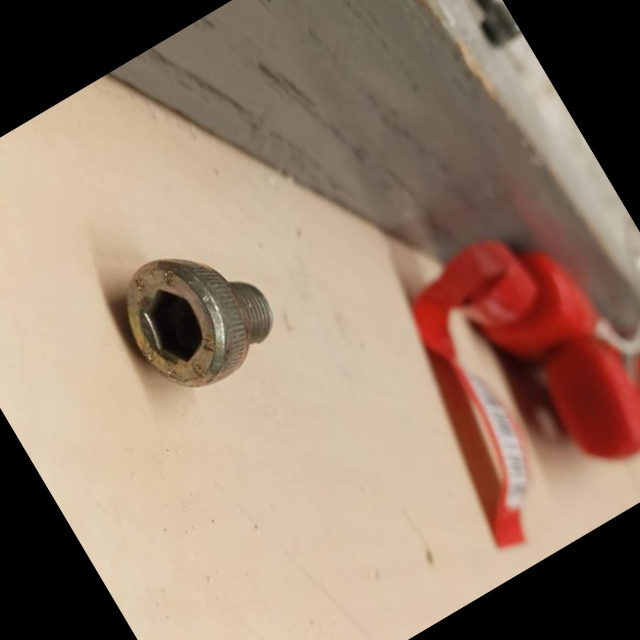allen: (100, 246, 245, 405)
